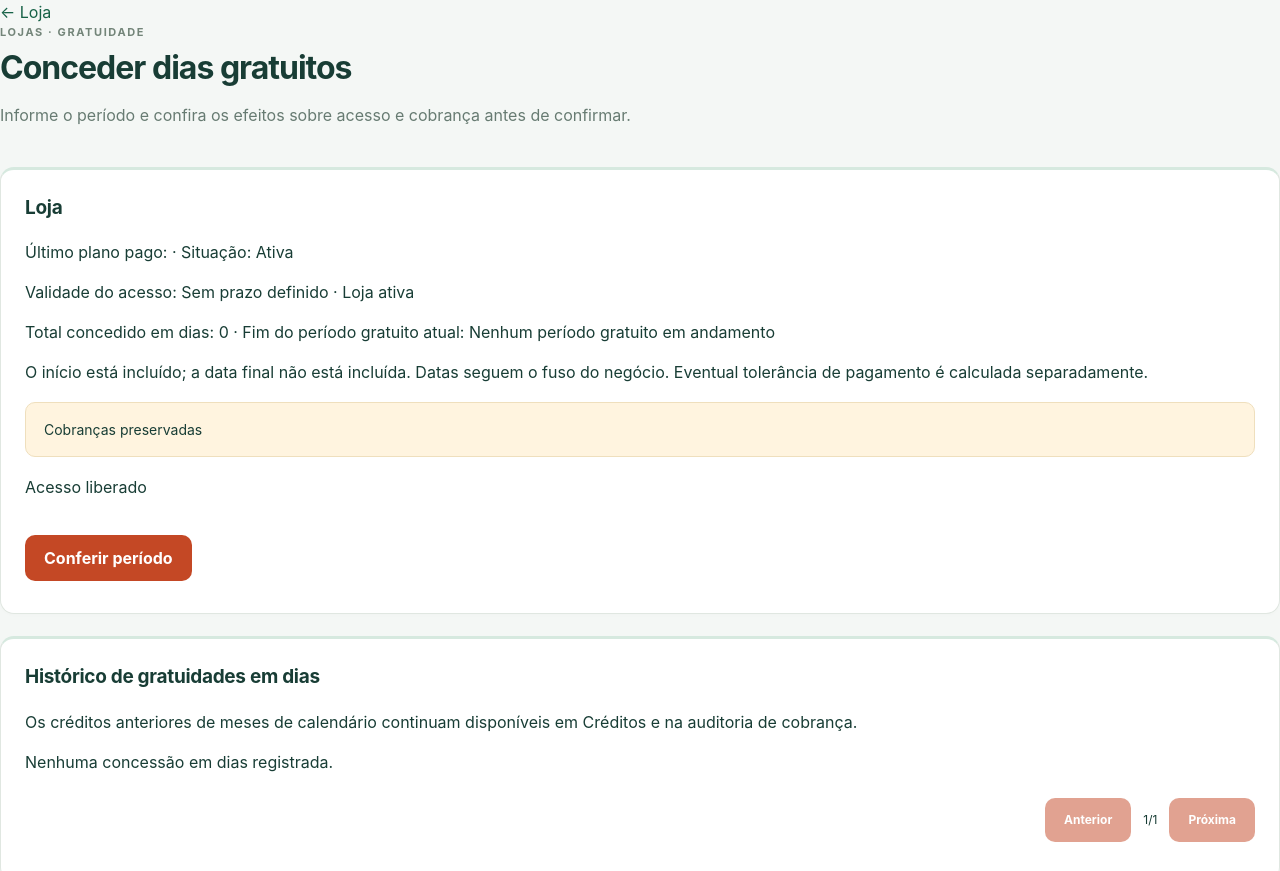
Test: Operações globais › confirma dias livres com período e impacto antes de executar
Click the button "Conferir período".
click(108, 558)  # box [25,535,192,581]
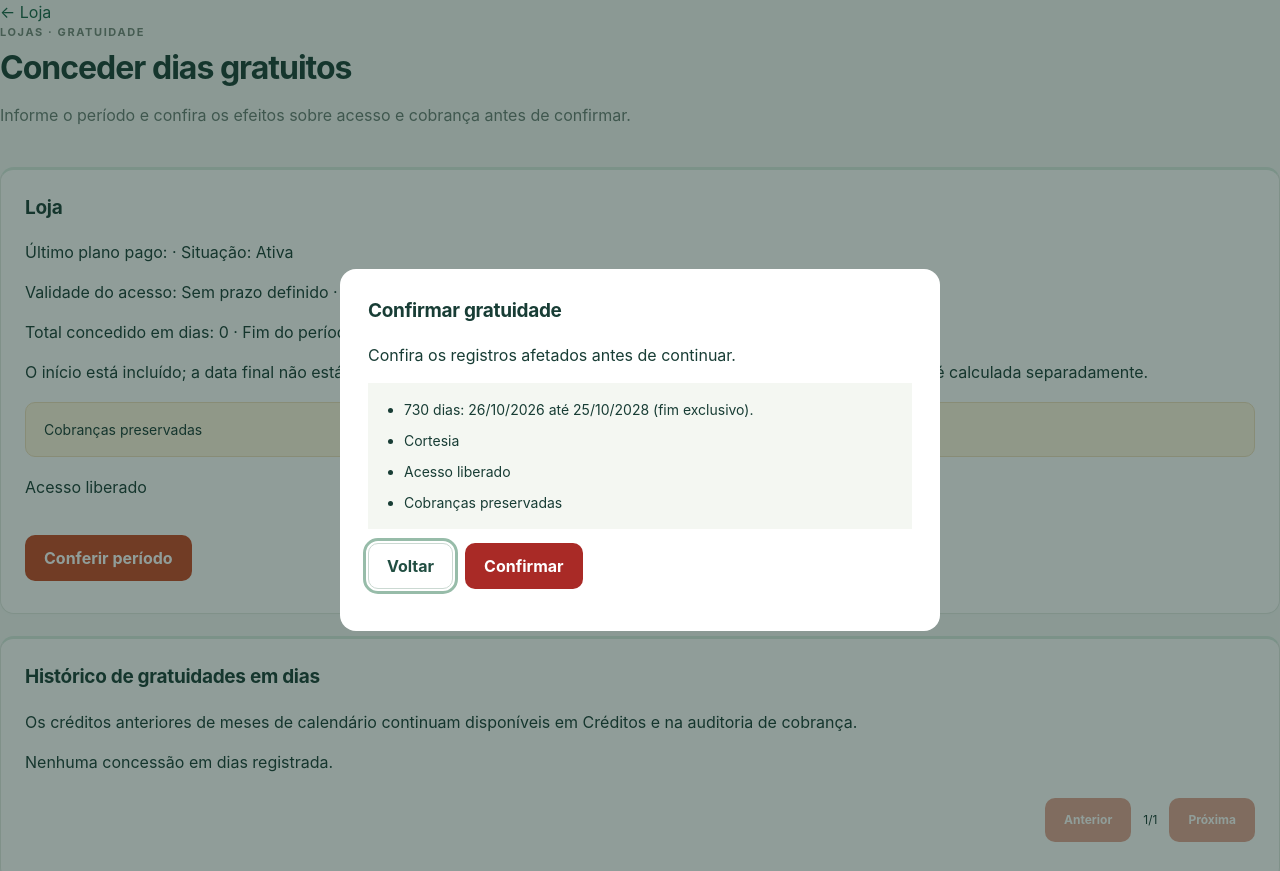
Expected: the list item "730 dias: 26/10/2026 até 25/10/2028 (fim exclusivo)." is shown, [404,401,754,418]
Click the button "Confirmar".
click(524, 566)  # box [465,543,583,589]
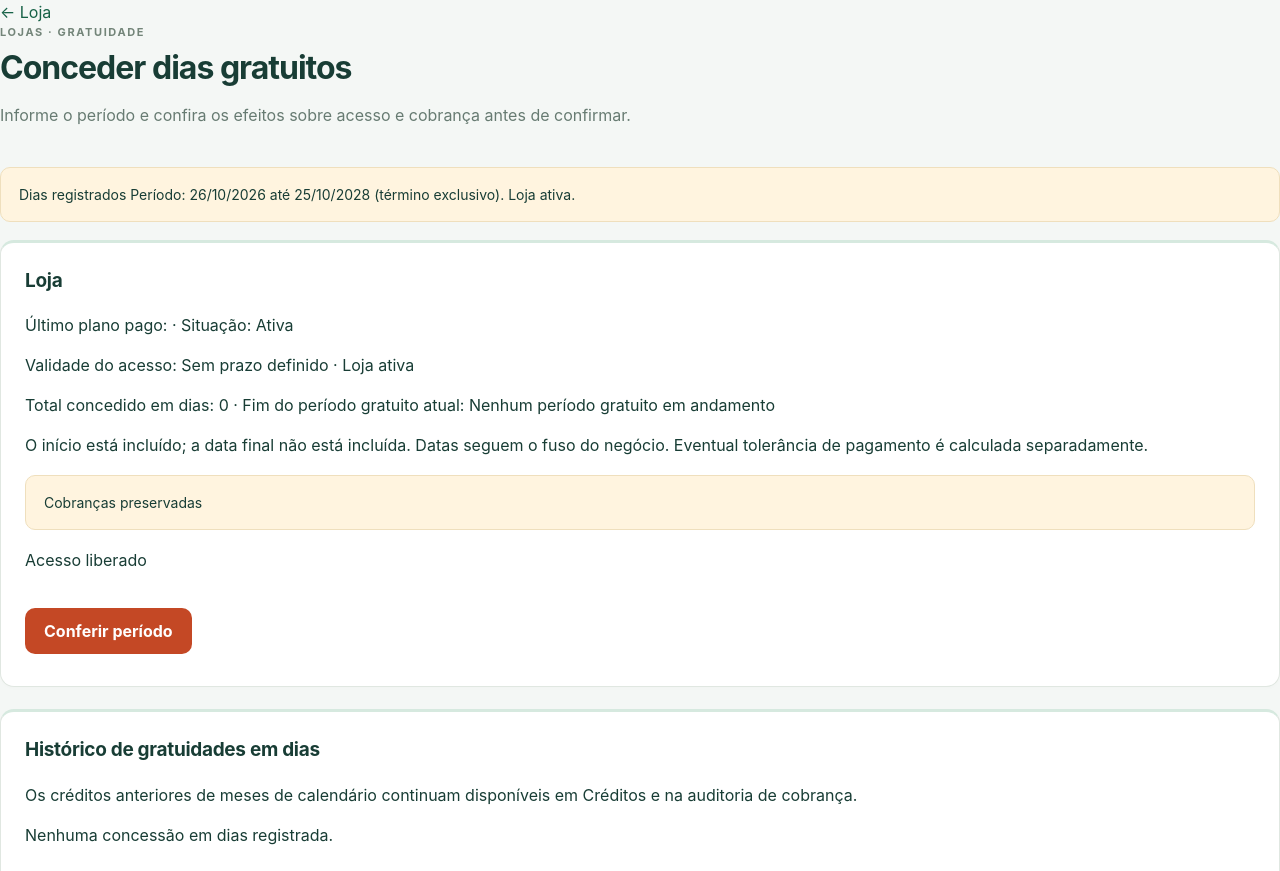
Expected: the text "Dias registrados" is shown, [19,186,575,203]
